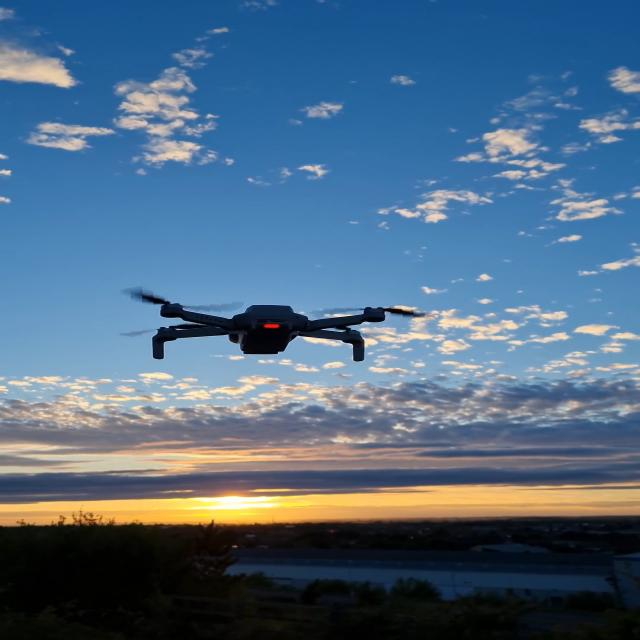Drone: (107, 279, 431, 371)
